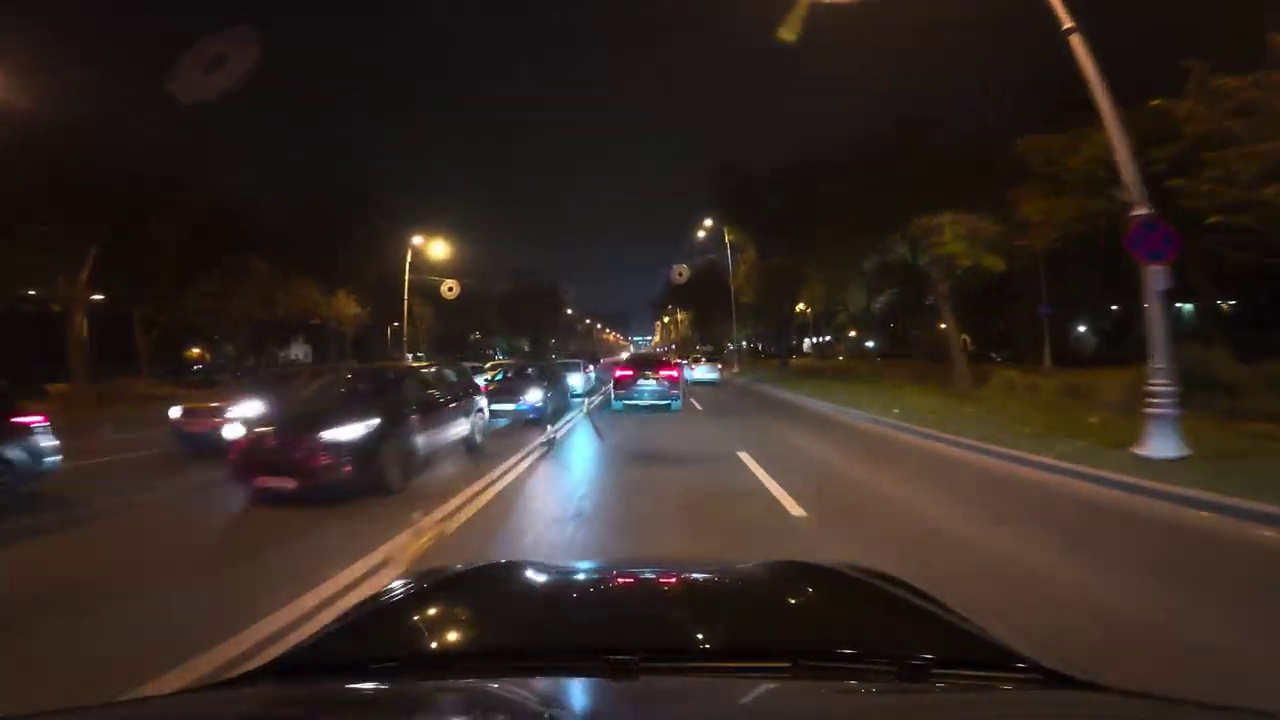acesa: (417, 235, 454, 265), (671, 265, 691, 285)
